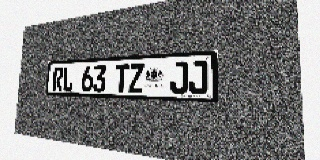3: (93, 65, 106, 92)
6: (81, 66, 94, 92)
J: (188, 60, 208, 95), (170, 61, 188, 94)
L: (62, 66, 74, 91)
R: (52, 67, 64, 91)
T: (114, 64, 129, 93)
Z: (128, 63, 144, 93)
